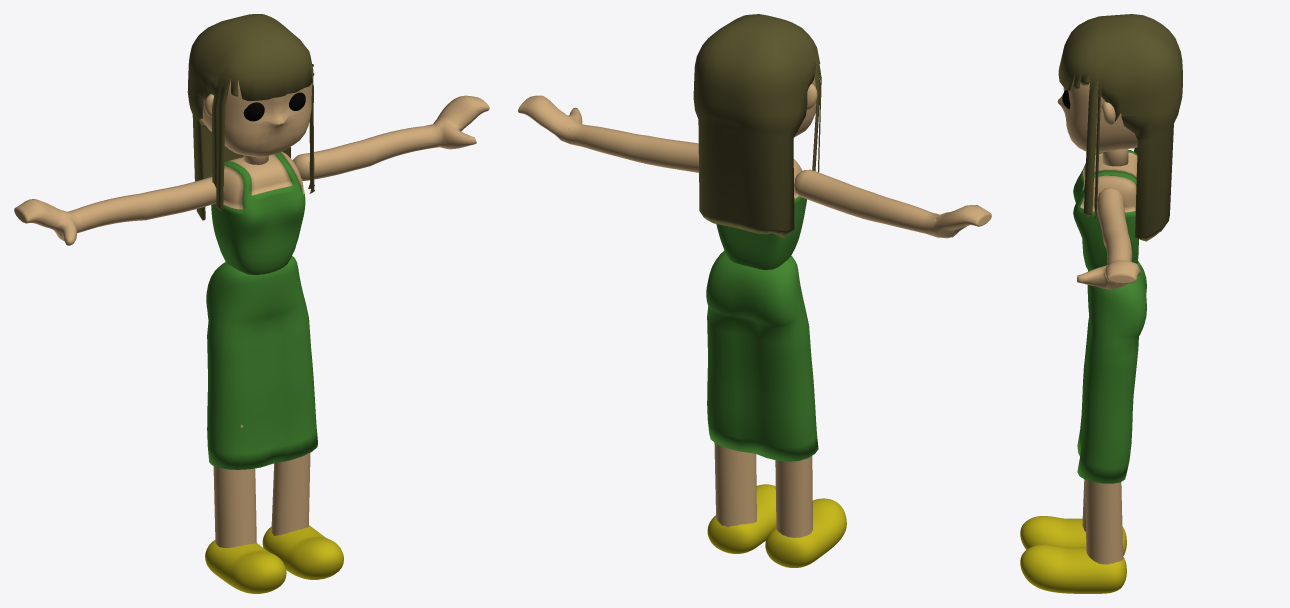
The model's file is FemaleNPCseperated.fbx.
3 views of the same model, side by side, from view 1: azimuth 30°, elevation 25°; view 2: azimuth 150°, elevation 25°; view 3: azimuth 270°, elevation 25° (orthographic). The views are drawn at different scales.
Parts seen in each view (by area): view 1: Cube.008, Sphere.003, Cube.004, NurbsPath.009, NurbsPath.010, Sphere.001, Cube.010, BézierCurve.009, BézierCurve.008, Cube.009; view 2: Sphere.003, Cube.008, NurbsPath.010, NurbsPath.009, Cube.009, BézierCurve.009, Cube.004, Cube.010, BézierCurve.008; view 3: Sphere.003, Cube.008, BézierCurve.008, Cube.004, NurbsPath.009, Cube.009, Sphere.001, BézierCurve.009, Cylinder.001.
Boxes of the visible parts, x1=… form: Cube.008: x1=206, y1=256, x2=317, y2=469; Sphere.003: x1=187, y1=14, x2=314, y2=220; Cube.004: x1=211, y1=151, x2=305, y2=274; NurbsPath.009: x1=292, y1=95, x2=489, y2=180; NurbsPath.010: x1=14, y1=177, x2=224, y2=245; Sphere.001: x1=201, y1=76, x2=312, y2=157; Cube.010: x1=213, y1=466, x2=256, y2=547; BézierCurve.009: x1=205, y1=540, x2=286, y2=593; BézierCurve.008: x1=262, y1=525, x2=343, y2=579; Cube.009: x1=271, y1=453, x2=310, y2=535; Sphere.003: x1=693, y1=14, x2=821, y2=238; Cube.008: x1=706, y1=250, x2=818, y2=461; NurbsPath.010: x1=794, y1=169, x2=991, y2=238; NurbsPath.009: x1=518, y1=95, x2=698, y2=172; Cube.009: x1=714, y1=442, x2=756, y2=527; BézierCurve.009: x1=765, y1=498, x2=846, y2=567; Cube.004: x1=716, y1=159, x2=806, y2=269; Cube.010: x1=775, y1=456, x2=812, y2=537; BézierCurve.008: x1=707, y1=484, x2=776, y2=553; Sphere.003: x1=1058, y1=14, x2=1182, y2=241; Cube.008: x1=1077, y1=261, x2=1146, y2=483; BézierCurve.008: x1=1020, y1=544, x2=1126, y2=593; Cube.004: x1=1073, y1=150, x2=1138, y2=270; NurbsPath.009: x1=1077, y1=187, x2=1140, y2=289; Cube.009: x1=1085, y1=479, x2=1122, y2=564; Sphere.001: x1=1057, y1=77, x2=1137, y2=152; BézierCurve.009: x1=1020, y1=516, x2=1126, y2=555; Cylinder.001: x1=1102, y1=149, x2=1128, y2=166.
Bounding box in the file's own units: 782 × 873 × 366.
